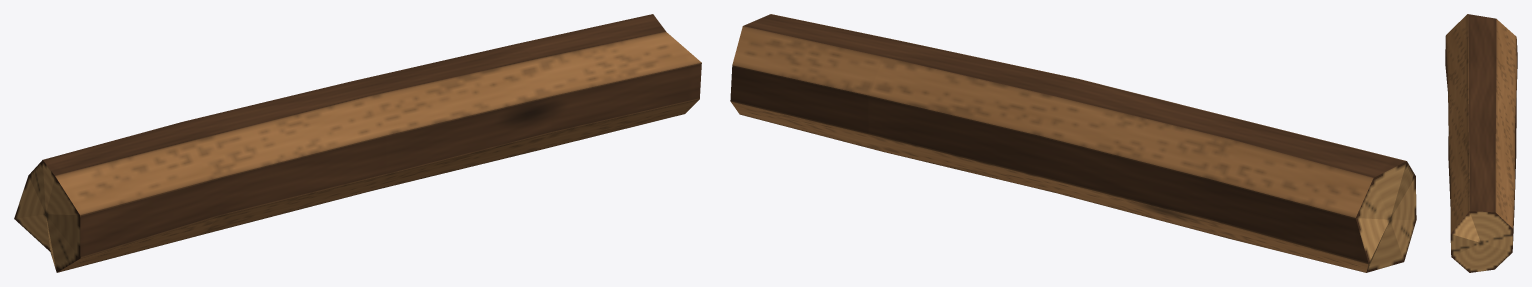
Rendered from SM_Wood.fbx.
The picture shows the model from 3 angles, left to right: view 1: azimuth 30°, elevation 25°; view 2: azimuth 150°, elevation 25°; view 3: azimuth 270°, elevation 25°; orthographic projection. The views are drawn at different scales.
Visible parts, largest first — view 1: SM_Wood; view 2: SM_Wood; view 3: SM_Wood.
Part boxes in pixels (box(x1,y1,x2,y2)): SM_Wood: box(14, 14, 701, 272); SM_Wood: box(730, 14, 1416, 272); SM_Wood: box(1445, 14, 1517, 272).
Size of the model in its own units: 114 by 17.2 by 17.5.
Materials: 1 (1 with a texture image).
